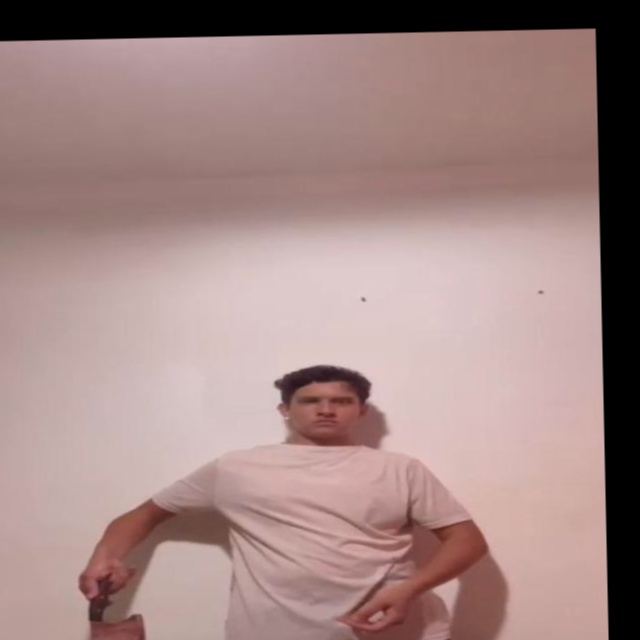Sharp-Object: (81, 612, 153, 640)
